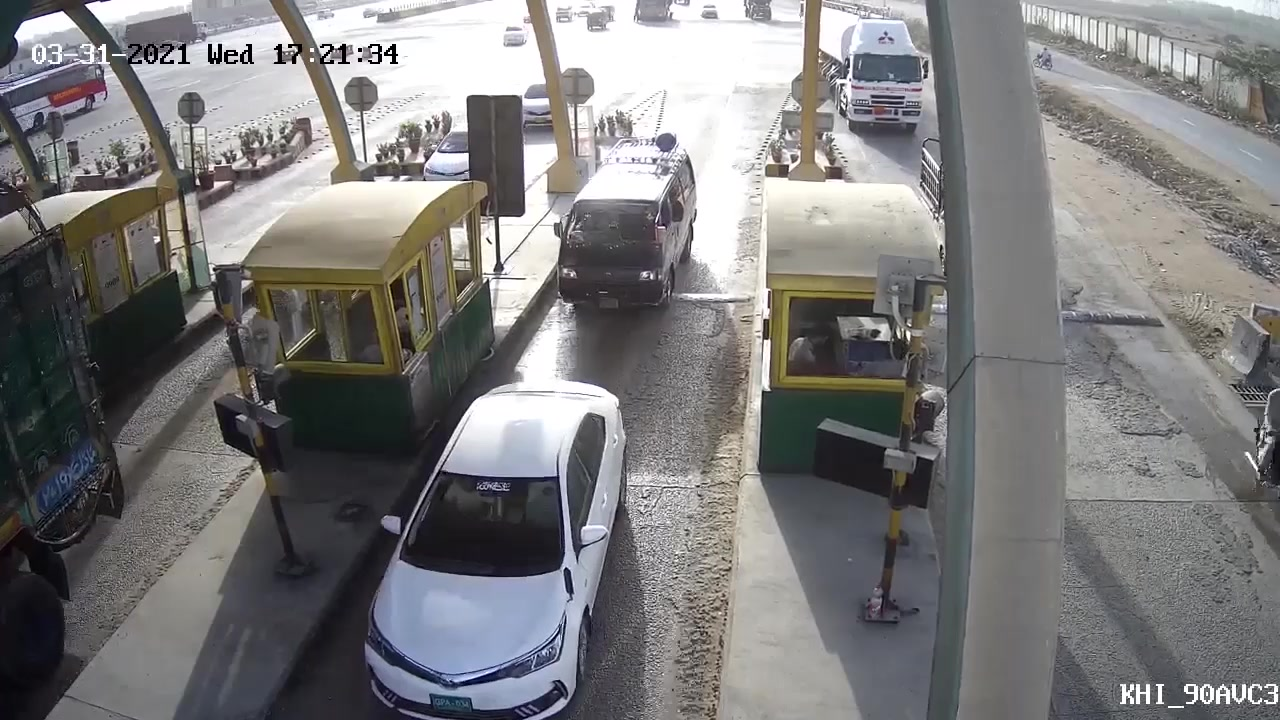F1: (352, 377, 633, 714)
F2: (550, 127, 707, 321)
